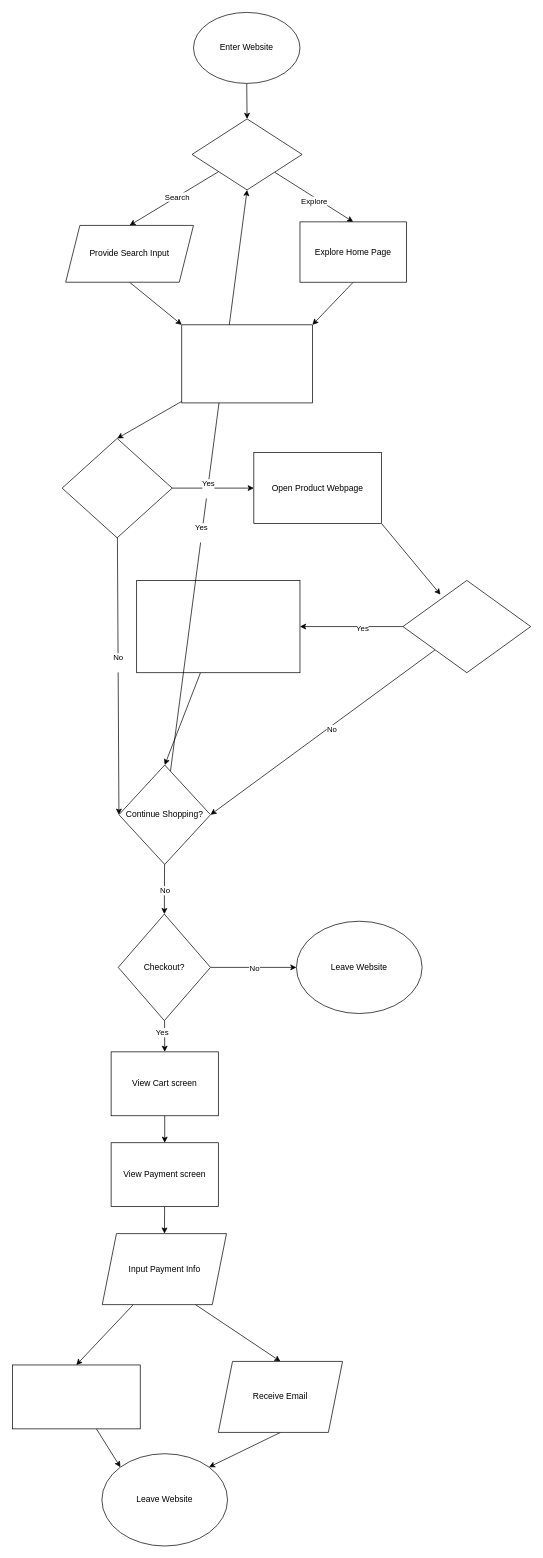
This 543x1558 diagram has some shape labels left out. The centre of each missing label's shape, as x and y in pixels:
"Add To Cart?" belongs at [466,626].
"Added To Cart Confirmation" belongs at [218,626].
"Look over products" belongs at [246,363].
"Order Confirmation Screen" belongs at [76,1396].
"Search Or Explore?" belongs at [246,154].
"View specific product?" belongs at [116,488].
